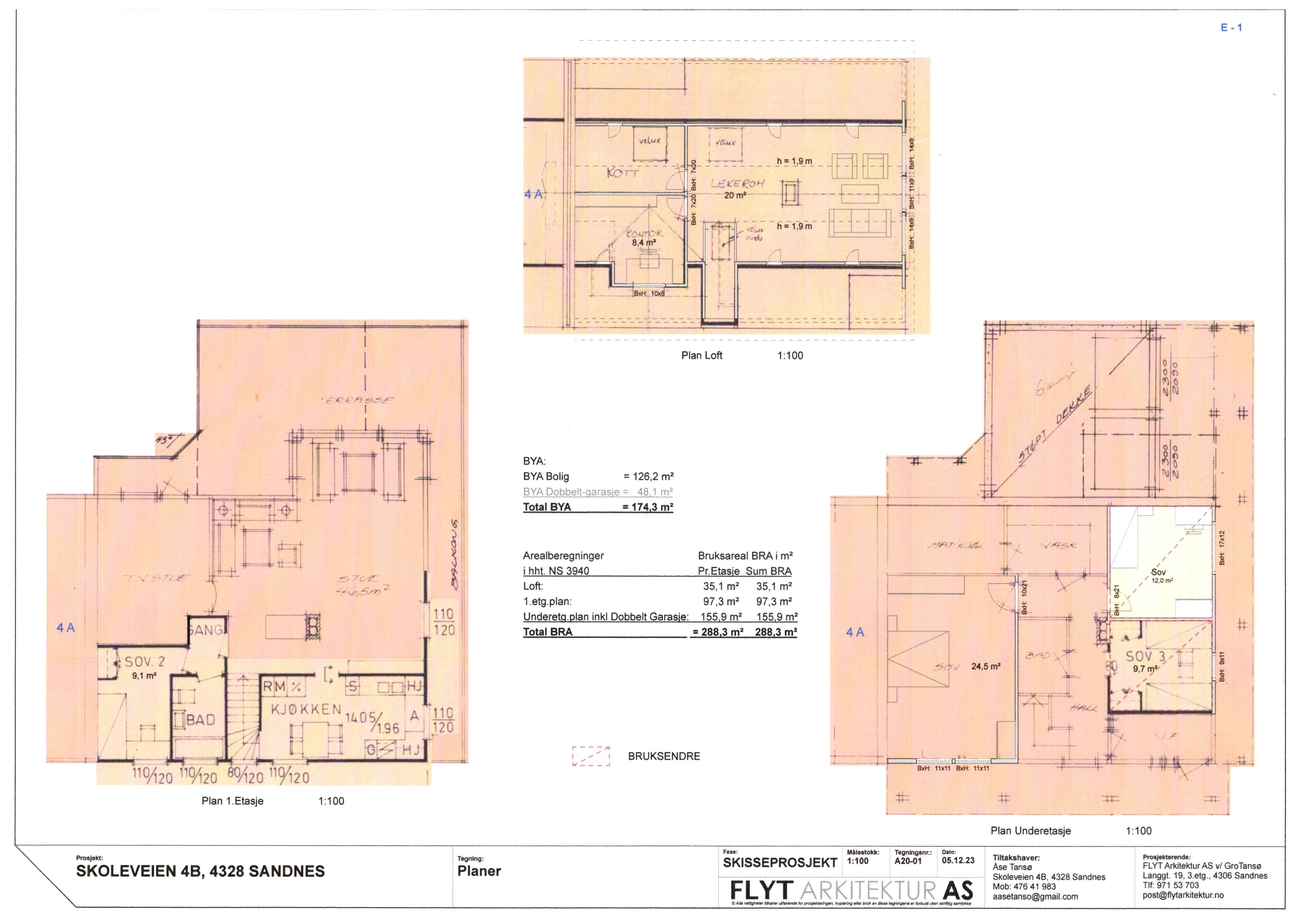plantegning: (883, 321, 1217, 768), (93, 429, 431, 763), (564, 117, 908, 332)
